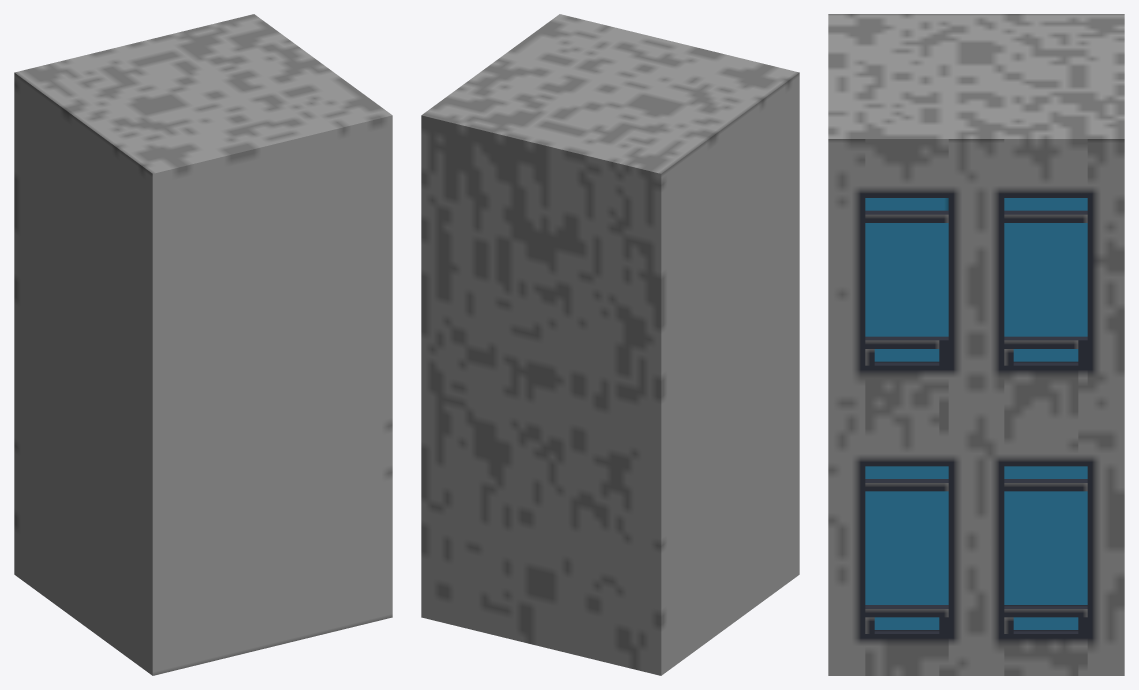
Rendered from front_okna_bok_pusty.dae.
The picture shows the model from 3 angles, left to right: view 1: azimuth 30°, elevation 25°; view 2: azimuth 150°, elevation 25°; view 3: azimuth 270°, elevation 25°; orthographic projection. The views are drawn at different scales.
Parts seen in each view (by area): view 1: Content; view 2: Content; view 3: Content.
Part boxes in pixels (x1=…): Content: x1=14, y1=14, x2=392, y2=675; Content: x1=421, y1=14, x2=799, y2=675; Content: x1=828, y1=14, x2=1124, y2=675.
Bounding box in the file's own units: 32 × 64 × 32.
Materials: 1 (1 with a texture image).
